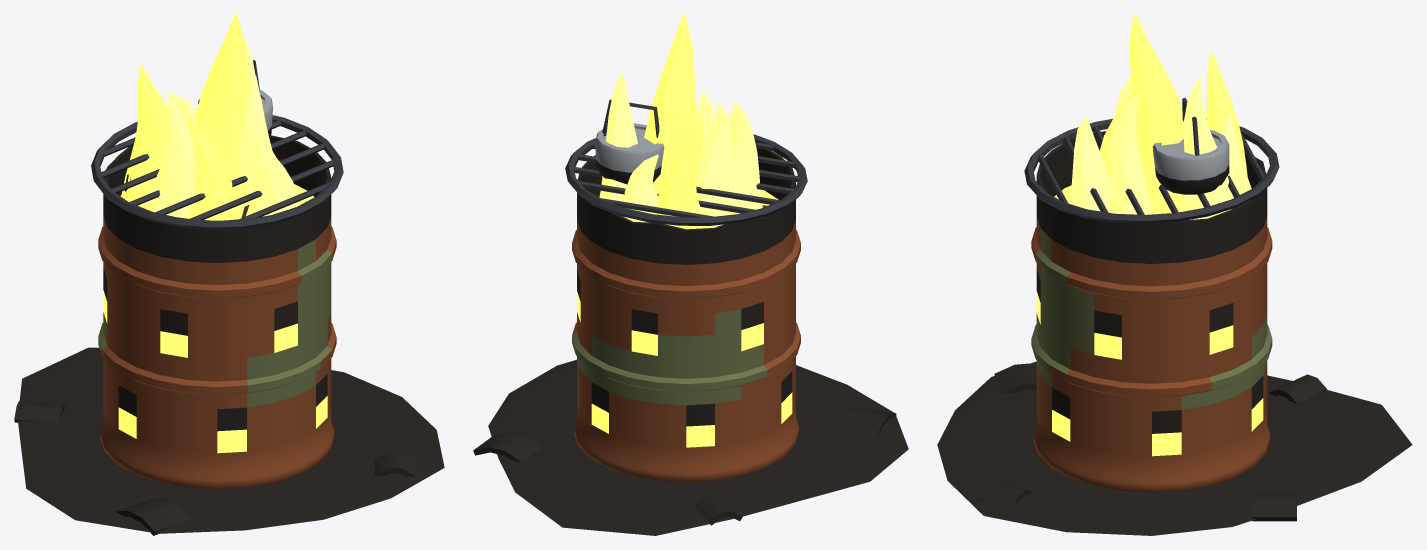
Rendered from deco_salvage_burn_barrel.fbx.
The picture shows the model from 3 angles, left to right: view 1: azimuth 30°, elevation 25°; view 2: azimuth 150°, elevation 25°; view 3: azimuth 270°, elevation 25°; orthographic projection. The views are drawn at different scales.
Visible parts, largest first — view 1: Salvage_BurnBarrel_Barrel, Salvage_BurnBarrel_Fire, Salvage_BurnBarrel_Grate; view 2: Salvage_BurnBarrel_Barrel, Salvage_BurnBarrel_Fire, Salvage_BurnBarrel_Grate; view 3: Salvage_BurnBarrel_Barrel, Salvage_BurnBarrel_Fire, Salvage_BurnBarrel_Grate.
Boxes of the visible parts, left/top/right/bottom form: Salvage_BurnBarrel_Barrel: left=14, top=135, right=444, bottom=535; Salvage_BurnBarrel_Fire: left=120, top=14, right=314, bottom=220; Salvage_BurnBarrel_Grate: left=91, top=60, right=343, bottom=229; Salvage_BurnBarrel_Barrel: left=473, top=148, right=908, bottom=535; Salvage_BurnBarrel_Fire: left=594, top=14, right=778, bottom=229; Salvage_BurnBarrel_Grate: left=565, top=99, right=807, bottom=225; Salvage_BurnBarrel_Barrel: left=937, top=131, right=1412, bottom=535; Salvage_BurnBarrel_Fire: left=1054, top=14, right=1251, bottom=219; Salvage_BurnBarrel_Grate: left=1024, top=98, right=1279, bottom=223.
Bounding box in the file's own units: 143 × 158 × 155.
